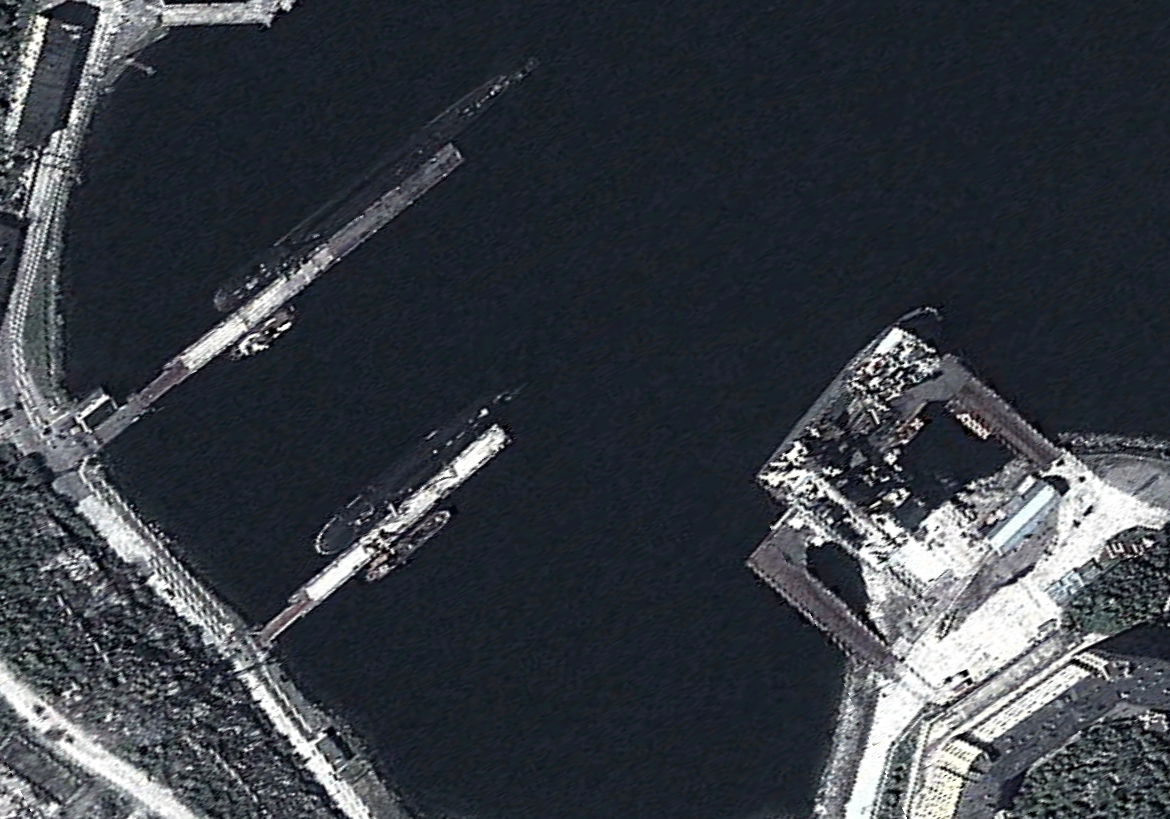merchant ship: (365, 509, 451, 582)
submarine: (214, 55, 540, 313), (314, 381, 524, 556)
